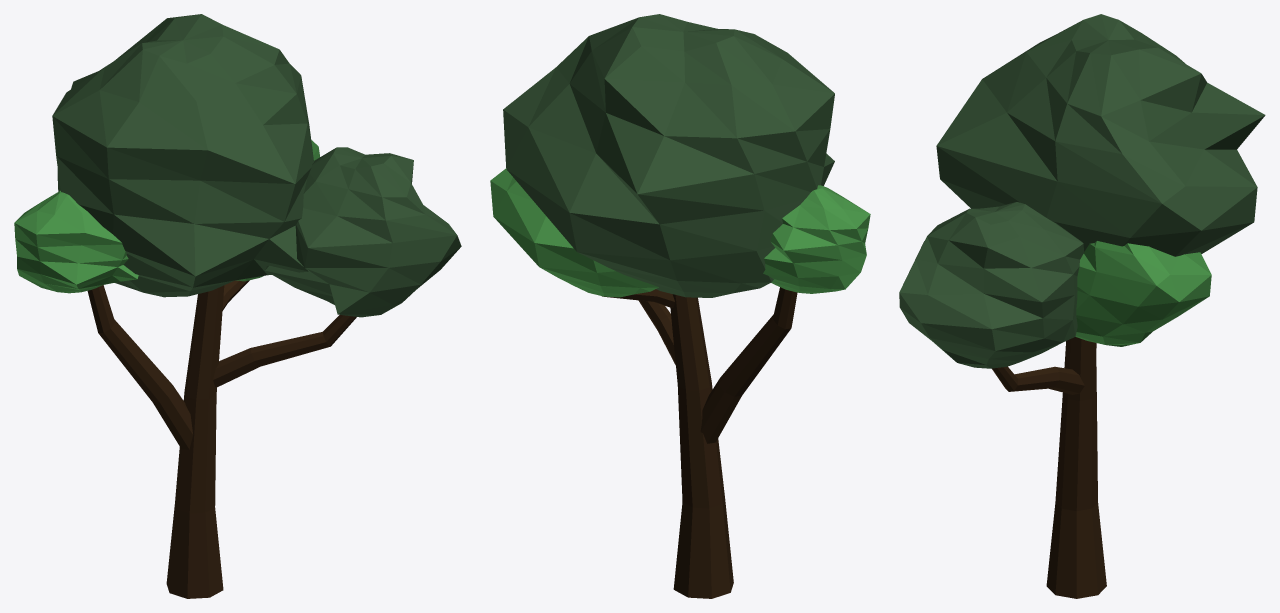
The model's file is Tree2.fbx.
3 views of the same model, side by side, from view 1: azimuth 30°, elevation 25°; view 2: azimuth 150°, elevation 25°; view 3: azimuth 270°, elevation 25° (orthographic). The views are drawn at different scales.
Parts seen in each view (by area): view 1: pCylinder5; view 2: pCylinder5; view 3: pCylinder5.
Part boxes in pixels (x1,y1,x2,y2): pCylinder5: (14, 14, 461, 598); pCylinder5: (490, 14, 870, 598); pCylinder5: (899, 14, 1265, 598).
Bounding box in the file's own units: 16.4 × 23 × 13.76.
